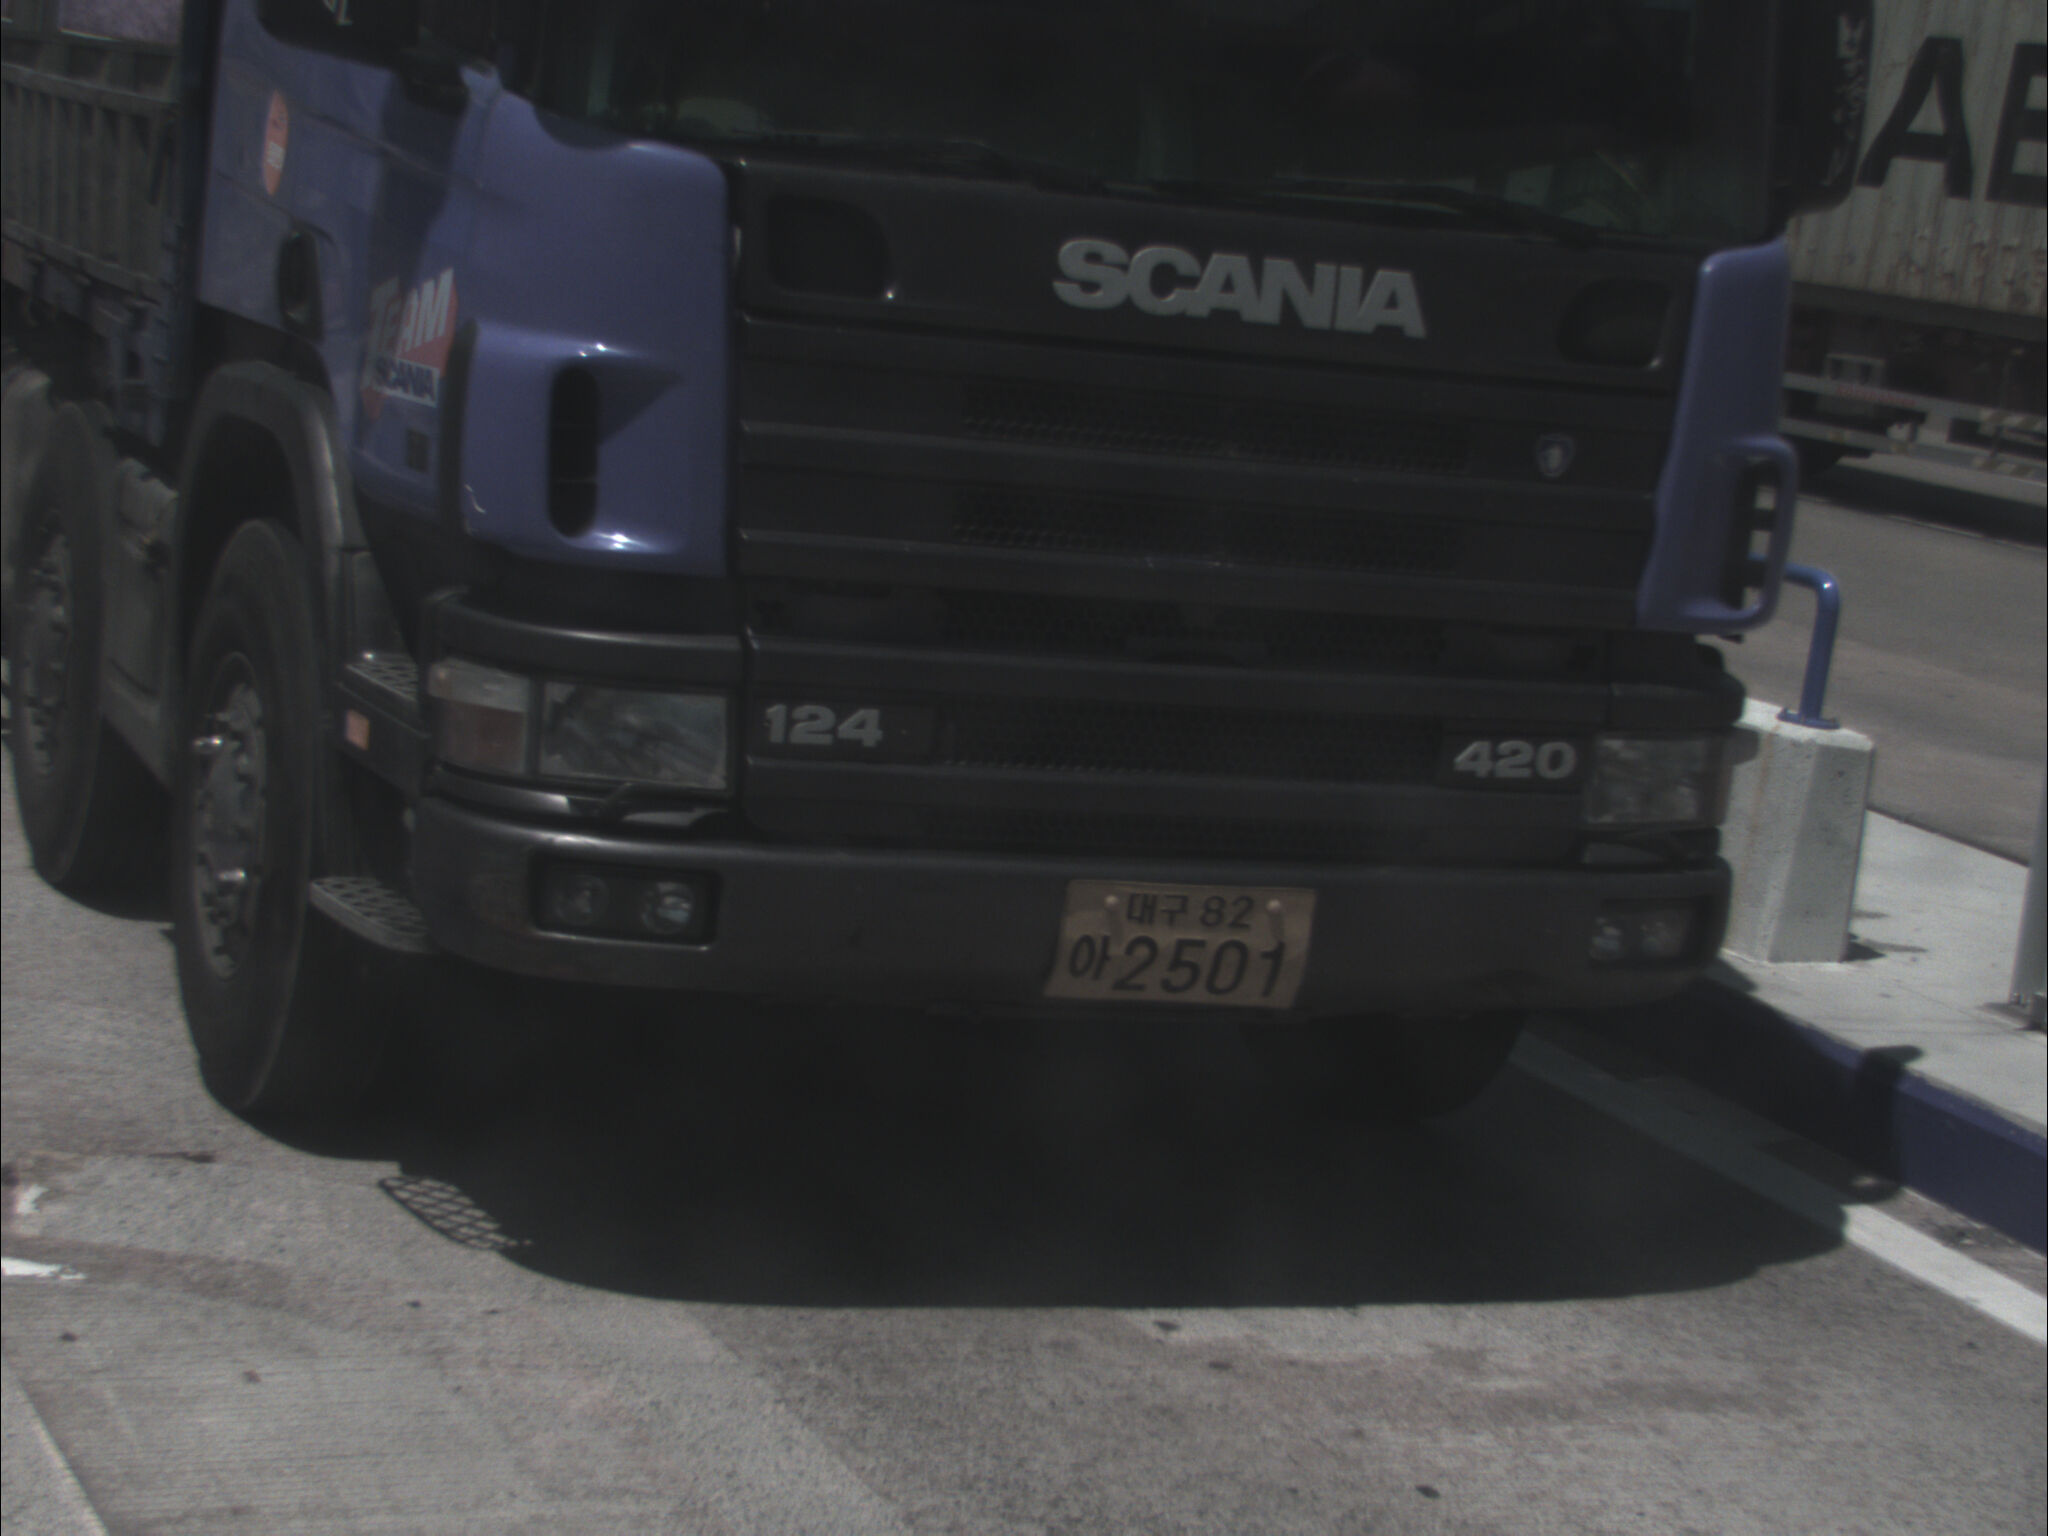car: (1, 1, 1881, 1145)
plate: (1034, 865, 1324, 1026)
